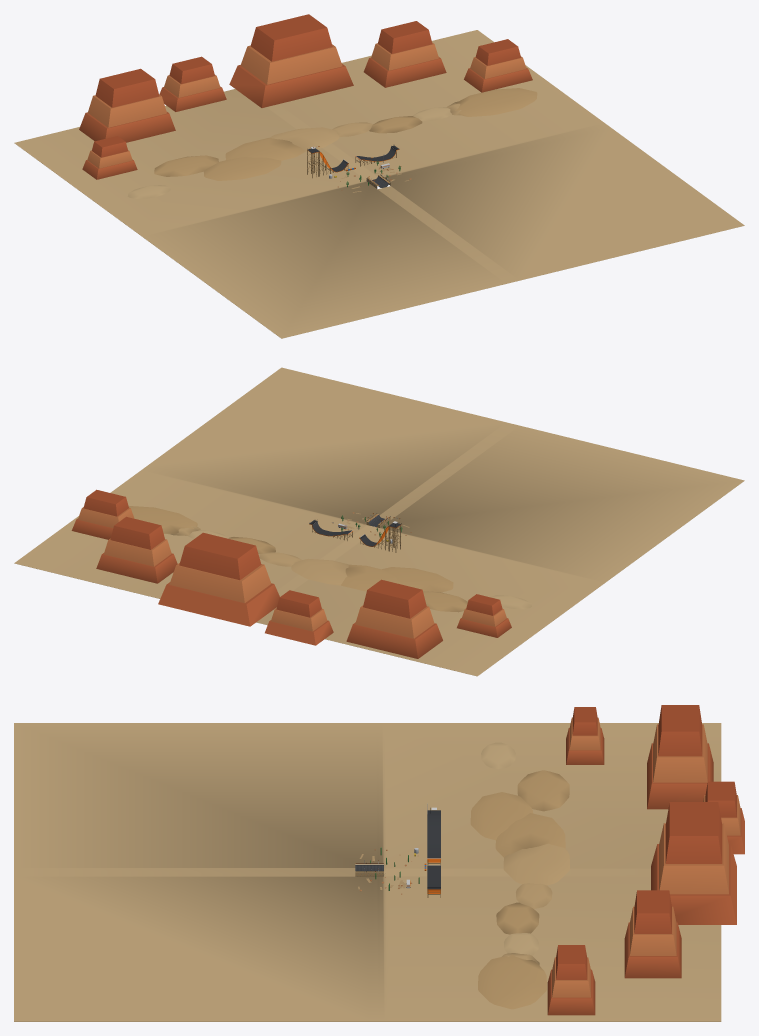
Rendered from venue-mega-7jO0x6ty.glb.
3 renders of one model, top to bottom at view 1: azimuth 30°, elevation 25°; view 2: azimuth 150°, elevation 25°; view 3: azimuth 270°, elevation 25°, orthographic. The views are drawn at different scales.
Parts seen in each view (by area): view 1: arena; view 2: arena; view 3: arena.
Boxes of the visible parts, left/top/right/bottom form: arena: left=14, top=14, right=744, bottom=338; arena: left=14, top=367, right=744, bottom=676; arena: left=14, top=705, right=744, bottom=1021.
Bounding box in the file's own units: 520 × 76.35 × 538.
